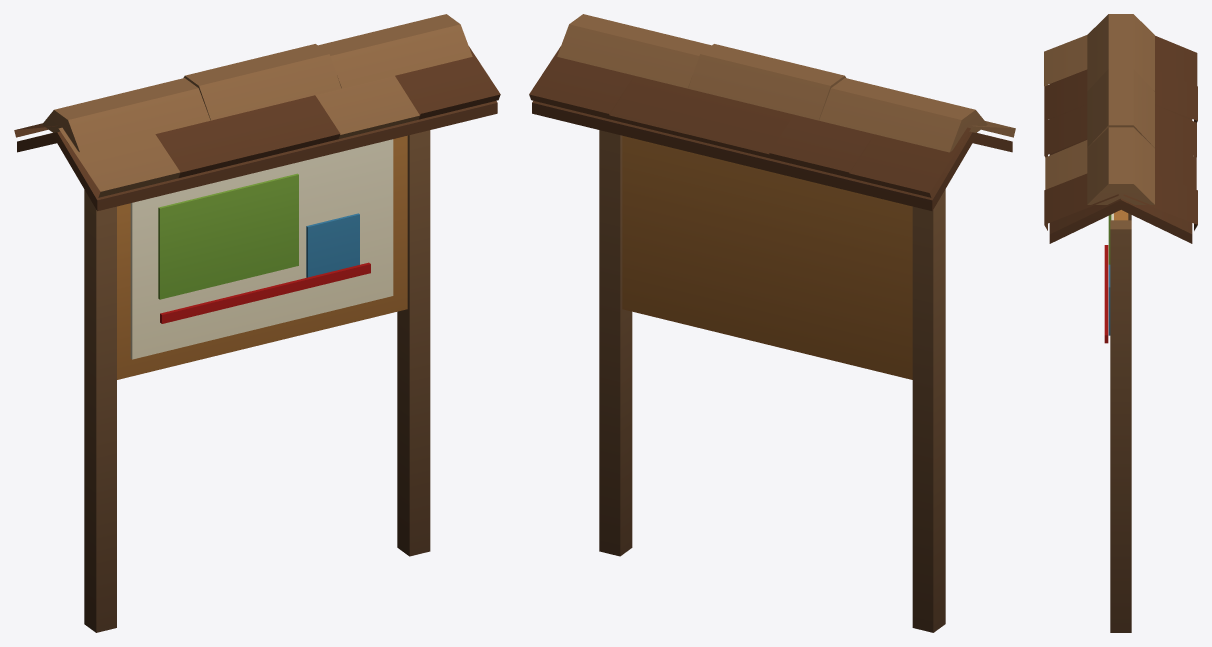
File: Info_Board.fbx
The picture shows the model from 3 angles, left to right: view 1: azimuth 30°, elevation 25°; view 2: azimuth 150°, elevation 25°; view 3: azimuth 270°, elevation 25°; orthographic projection. The views are drawn at different scales.
Visible parts, largest first — view 1: Info_Board_LOD0; view 2: Info_Board_LOD0; view 3: Info_Board_LOD0.
Boxes of the visible parts, x1,y1,x2,y2 form: Info_Board_LOD0: [14, 14, 500, 632]; Info_Board_LOD0: [529, 14, 1015, 632]; Info_Board_LOD0: [1044, 14, 1197, 632].
Size of what is drawn, in the model's own units: 2.3 by 2.87 by 0.8627.
1 material, 1 textured.
